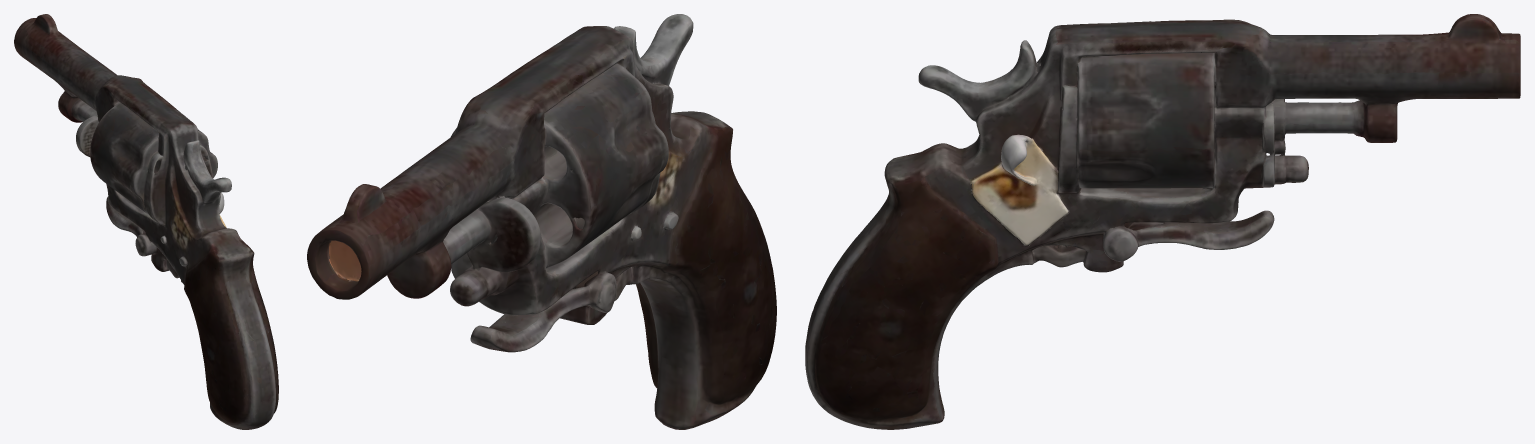
3 views of the same model, side by side, from view 1: azimuth 30°, elevation 25°; view 2: azimuth 150°, elevation 25°; view 3: azimuth 270°, elevation 25° (orthographic). The views are drawn at different scales.
Parts seen in each view (by area): view 1: world; view 2: world; view 3: world.
Boxes of the visible parts, <box> form: world: <box>14,14,278,429</box>; world: <box>307,14,776,429</box>; world: <box>805,14,1520,429</box>.
Size of the model in its own units: 0.2092 by 0.6335 by 1.
1 material, 1 textured.
